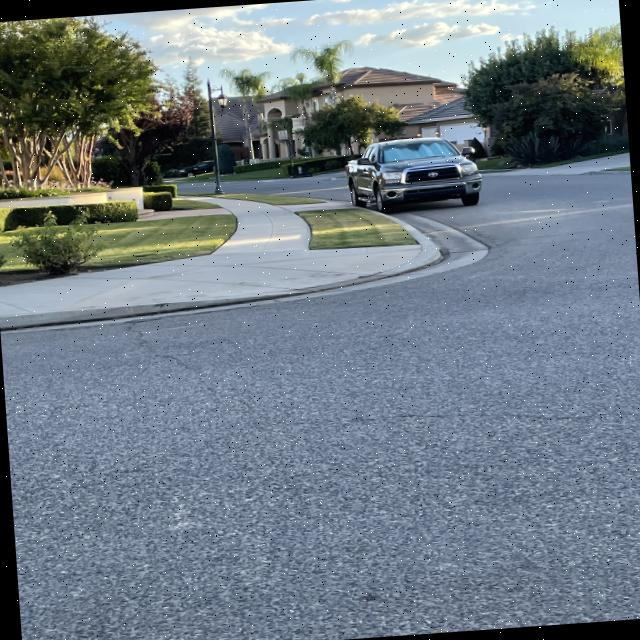curb: (0, 284, 328, 334), (403, 203, 462, 275)
road: (6, 293, 607, 640), (455, 190, 640, 628), (498, 164, 636, 287)
walkway: (80, 258, 228, 302), (5, 271, 128, 318), (194, 243, 310, 276), (234, 219, 306, 259), (232, 198, 303, 235)
walkway-edge: (0, 244, 232, 293), (303, 228, 436, 266), (296, 203, 326, 265), (224, 197, 250, 249)
